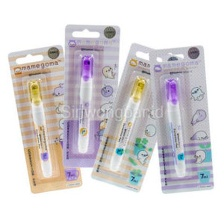book: (85, 40, 184, 193), (6, 42, 83, 195), (146, 42, 217, 195), (60, 19, 122, 169)
correction_fluid: (107, 71, 147, 173), (23, 77, 55, 179), (161, 75, 189, 180), (74, 52, 95, 156)
